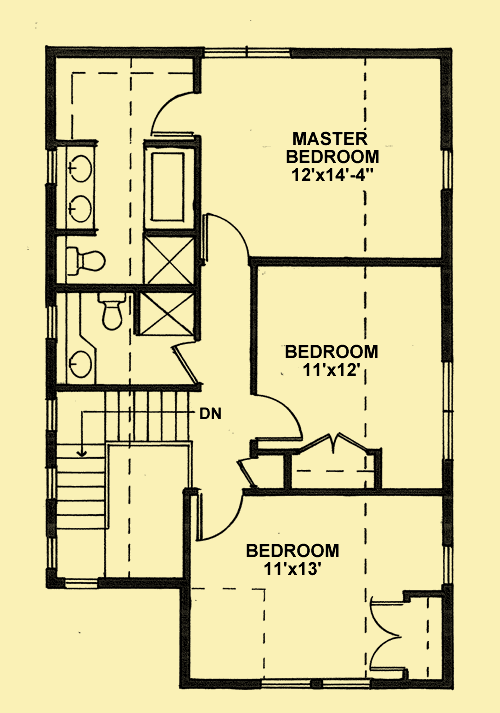coffee table: (141, 231, 197, 290), (140, 289, 195, 341)
door: (363, 591, 411, 674), (246, 386, 306, 447), (146, 85, 203, 138), (157, 339, 206, 389), (298, 428, 365, 464), (231, 447, 265, 494)
large sink: (64, 240, 113, 280), (91, 287, 131, 336)
small sink: (66, 147, 98, 191), (68, 342, 96, 388), (66, 192, 99, 229)
stairs: (57, 385, 199, 534)
tub: (141, 137, 196, 231)
windows: (437, 356, 459, 464), (204, 41, 293, 65), (256, 676, 376, 693), (62, 569, 103, 596), (437, 147, 459, 195), (439, 539, 459, 589), (42, 147, 61, 191), (43, 532, 64, 568), (43, 299, 59, 342)
